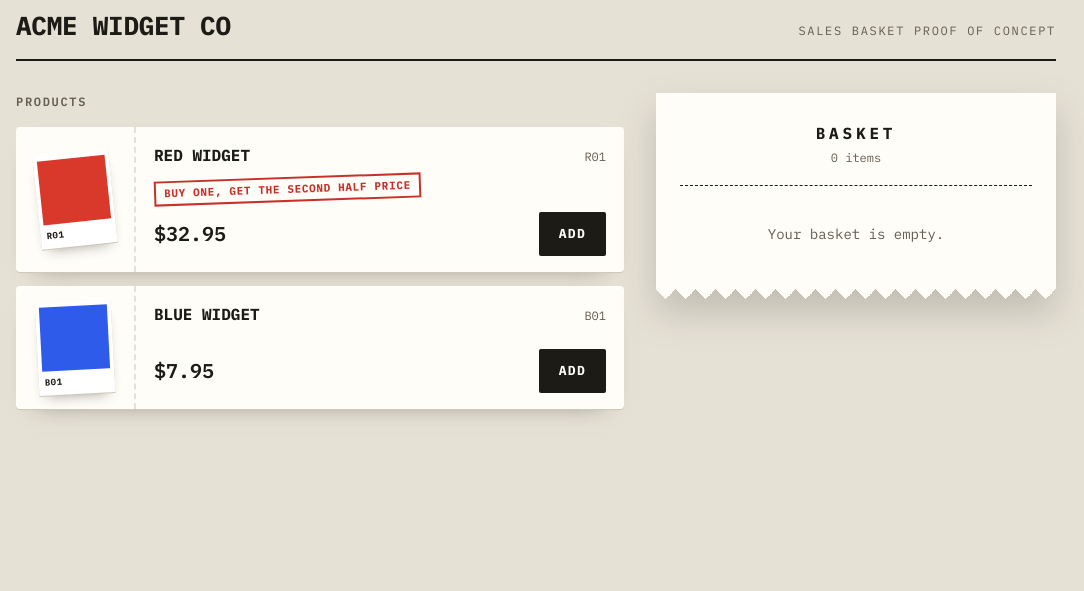
App › explains how much more to spend for cheaper delivery, and what one more unit saves
Step 1. Click the button with aria-label "Add Red Widget to basket" → (572, 234), box top-left (539, 212), bottom-right (606, 256)
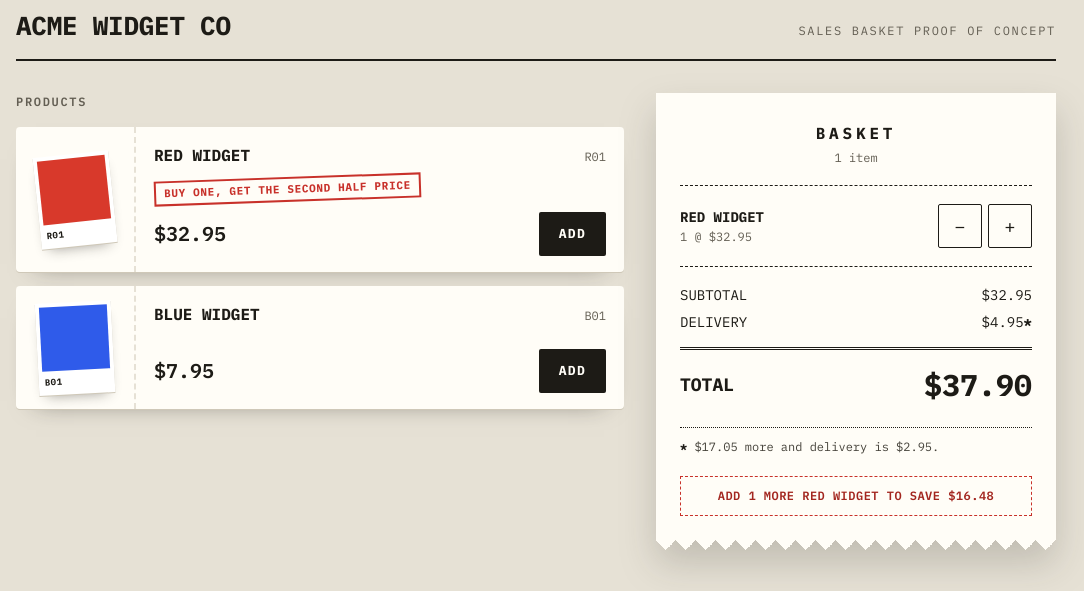
Check: the text "$17.05 more and delivery is $2.95." is shown, box top-left (680, 427), bottom-right (1032, 456)
Check: the text "Add 1 more Red Widget to save $16.48" is shown, box top-left (680, 476), bottom-right (1032, 516)
